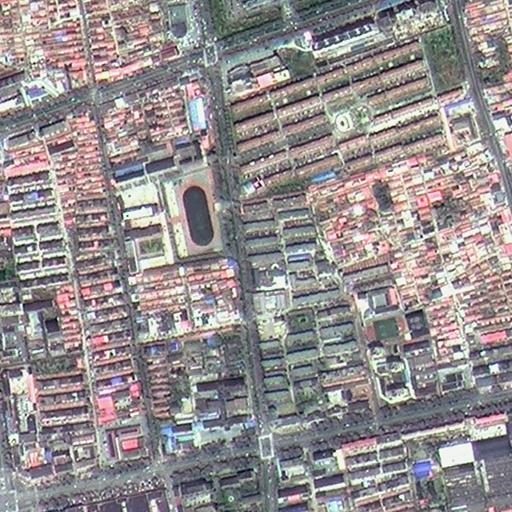school: (109, 154, 225, 274), (355, 279, 411, 346)
